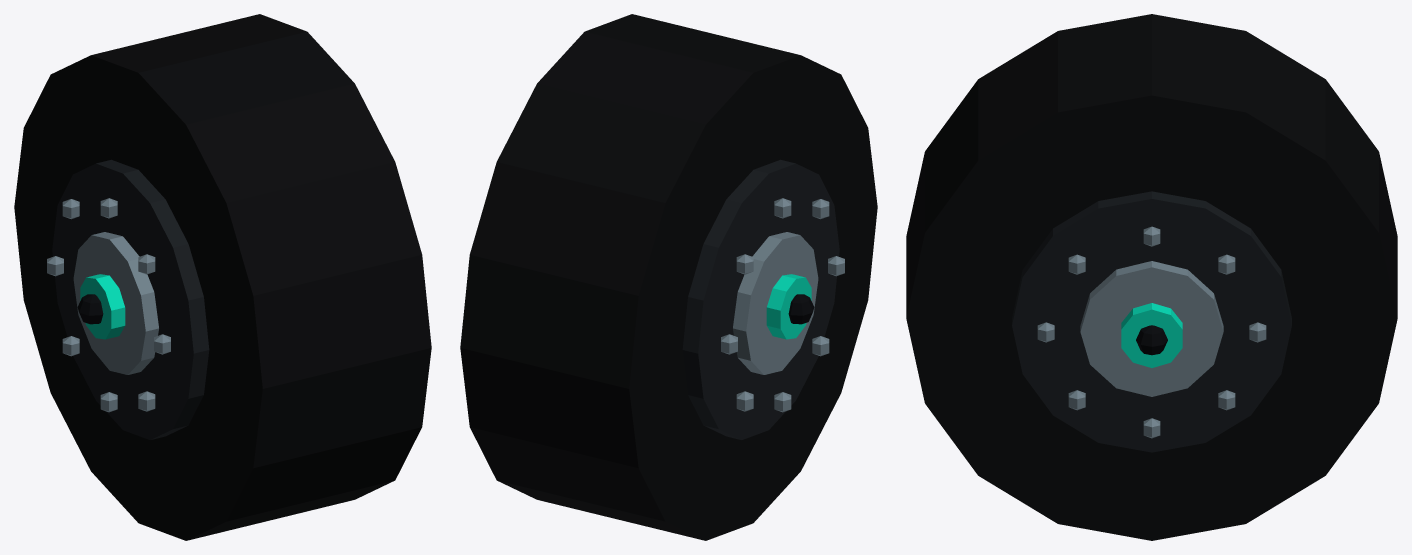
The model's file is Mercedes_F1_Wheel_Assembly.obj.
The picture shows the model from 3 angles, left to right: view 1: azimuth 30°, elevation 25°; view 2: azimuth 150°, elevation 25°; view 3: azimuth 270°, elevation 25°; orthographic projection.
Visible parts, largest first — view 1: TireRubber, DarkWheel, SilverMetal, TealBright, Black; view 2: TireRubber, DarkWheel, SilverMetal, TealBright, Black; view 3: TireRubber, DarkWheel, SilverMetal, TealBright, Black.
Boxes of the visible parts, bbox=[...] form: TireRubber: bbox=[14, 14, 431, 540]; DarkWheel: bbox=[52, 159, 209, 439]; SilverMetal: bbox=[47, 198, 170, 412]; TealBright: bbox=[80, 274, 125, 339]; Black: bbox=[77, 294, 103, 324]; TireRubber: bbox=[460, 14, 877, 540]; DarkWheel: bbox=[682, 159, 839, 439]; SilverMetal: bbox=[721, 198, 844, 412]; TealBright: bbox=[766, 274, 811, 339]; Black: bbox=[788, 294, 814, 324]; TireRubber: bbox=[906, 14, 1397, 540]; DarkWheel: bbox=[1012, 191, 1291, 452]; SilverMetal: bbox=[1037, 226, 1266, 438]; TealBright: bbox=[1121, 303, 1182, 367]; Black: bbox=[1136, 325, 1167, 355].
Bounding box in the file's own units: 0.528 × 0.79 × 0.79.
